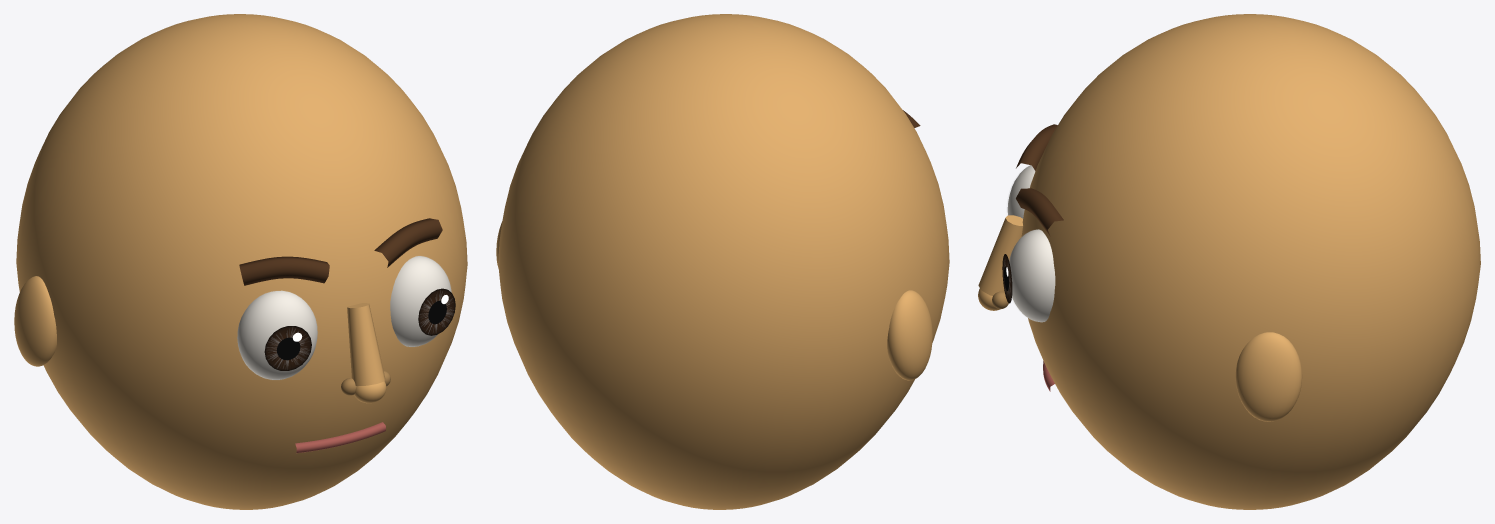
File: 02-epais.glb
The picture shows the model from 3 angles, left to right: view 1: azimuth 30°, elevation 25°; view 2: azimuth 150°, elevation 25°; view 3: azimuth 270°, elevation 25°; orthographic projection.
Bounding box in the file's own units: 0.3087 × 0.321 × 0.3166.
9 materials, 1 textured.
